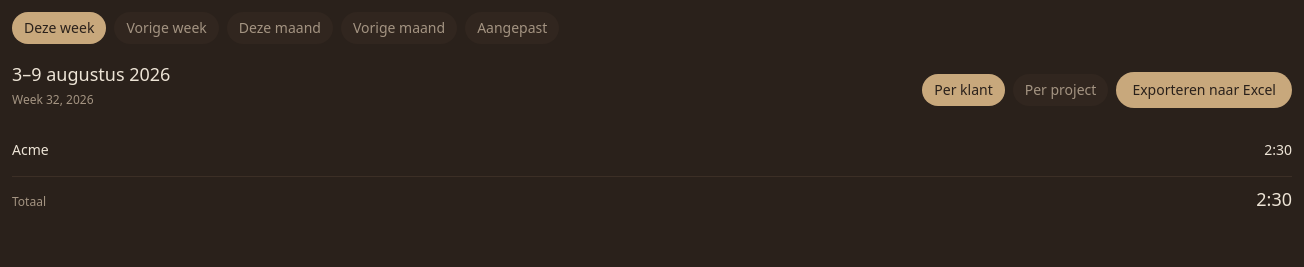
Test case: exporting to Excel › says the file was not written rather than looking like it was
Expected: the list item is shown, [12,140,1292,159]
Click the button "Exporteren naar Excel" at point(1204, 90), box [1116,72,1292,108]
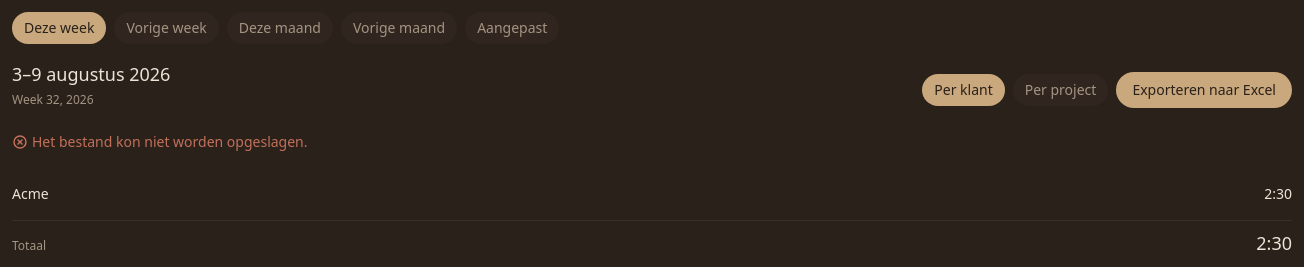
Result: the message reads "Het bestand kon niet worden opgeslagen." at [32,132,308,151]
